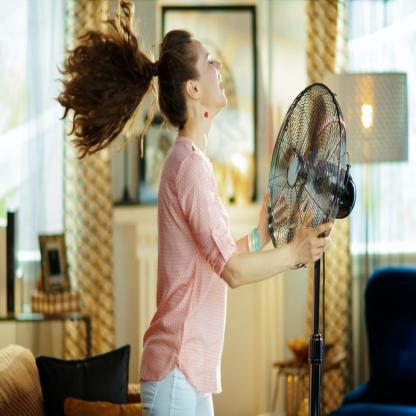fan: (258, 75, 363, 416)
